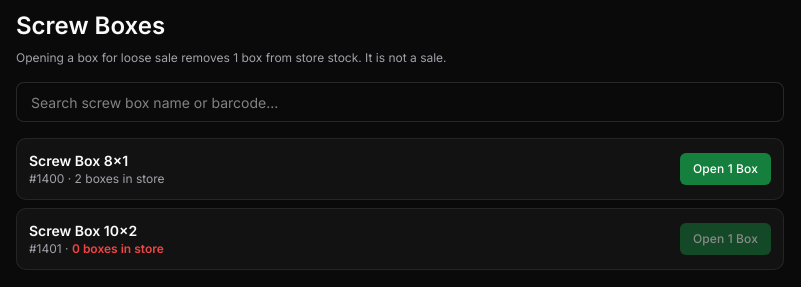
Staff Screw Boxes screen › filters by search
Expected: the text "Screw Box 8x1" is shown, [29,152,128,169]
Type "10x2" into the field named "Search screw boxes" at (400, 102), box [16,82,784,122]
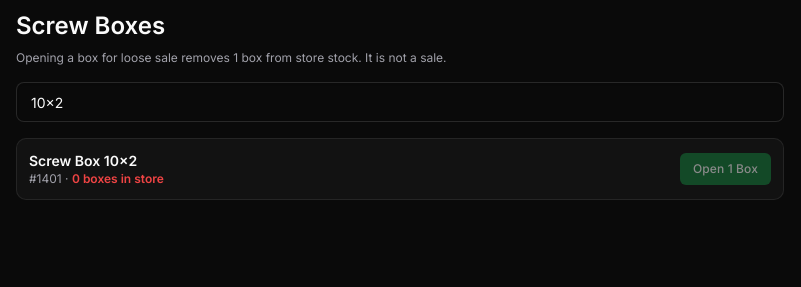
Expected: the text "Screw Box 10x2" is shown, [29,152,137,169]
Expected: the text "Screw Box 8x1" is gone
